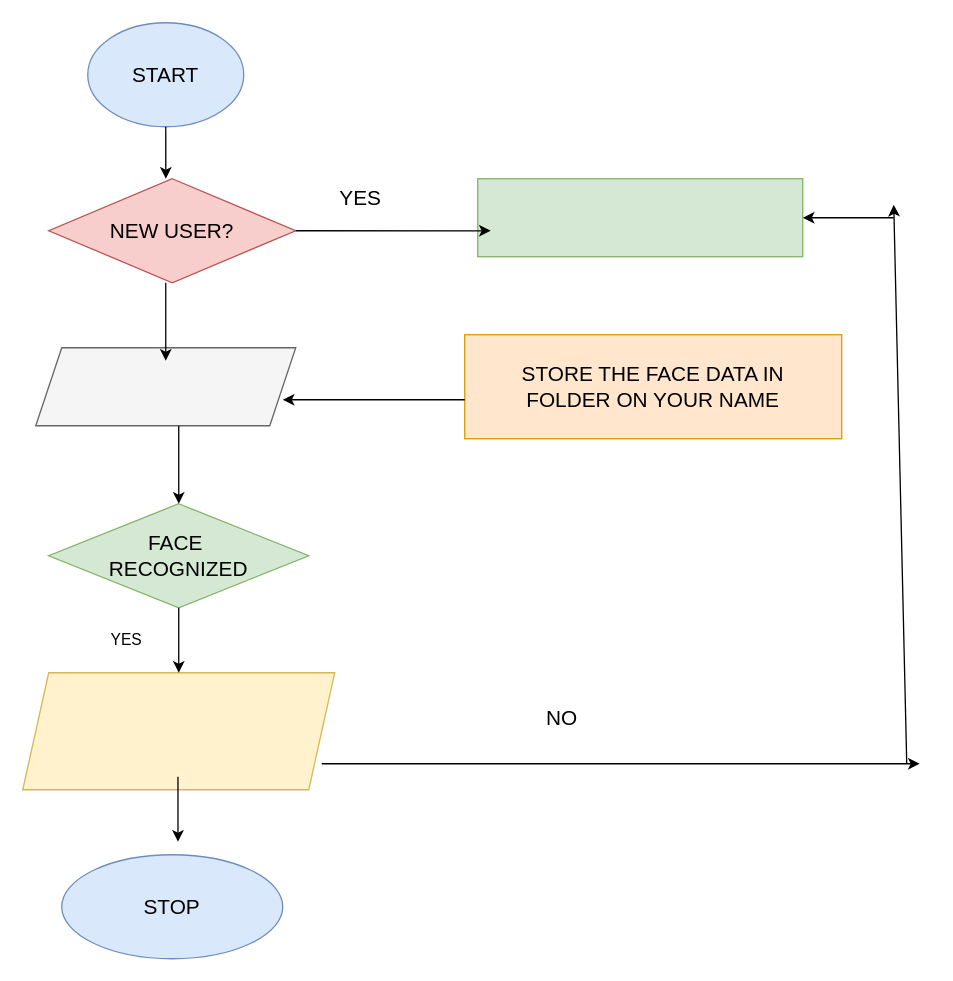
This 953x981 diagram has some shape labels left out. Each missing label, with the centre of its shape:
GIVE YOUR PHOTOGRAPH: pixel 639 217
RECOGNISE THE FACE: pixel 165 386
STORED IN CSV FILE WITH REGISTRATION NUMBER AND DATE,TIME OF ENRTY: pixel 178 730
